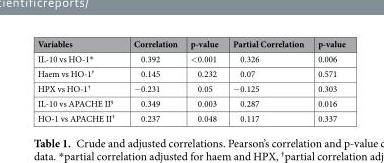table: (36, 37, 344, 123)
table column: (36, 37, 123, 123), (224, 37, 310, 123), (123, 37, 183, 123), (183, 37, 224, 123), (310, 37, 344, 123)
table column header: (36, 37, 344, 50)
table row: (36, 50, 344, 66), (36, 80, 344, 95), (36, 95, 344, 110), (36, 66, 344, 80), (36, 37, 344, 50), (36, 110, 344, 123)
